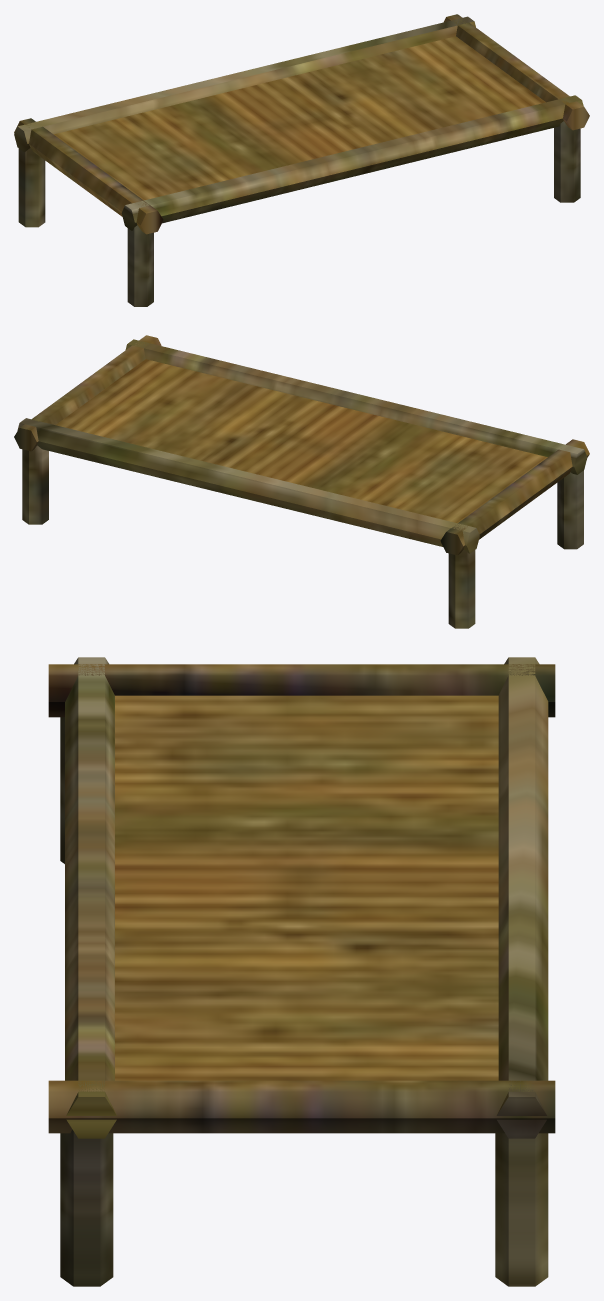
File: Table.fbx
The picture shows the model from 3 angles, top to bottom: view 1: azimuth 30°, elevation 25°; view 2: azimuth 150°, elevation 25°; view 3: azimuth 270°, elevation 25°; orthographic projection. The views are drawn at different scales.
Parts seen in each view (by area): view 1: Table; view 2: Table; view 3: Table.
Boxes of the visible parts, x1,y1,x2,y2 form: Table: (14, 14, 589, 306); Table: (14, 335, 589, 628); Table: (48, 657, 555, 1286).
Size of the model in its own units: 5.95 by 2.89 by 1.21.
1 material, 1 textured.
